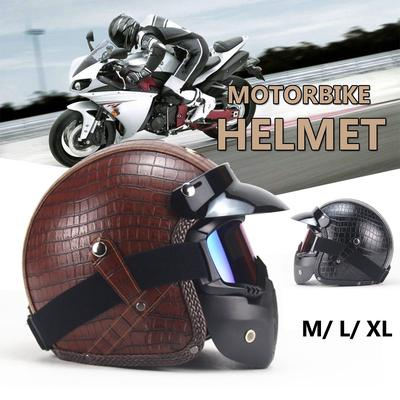with_helmet: (28, 138, 291, 373), (291, 198, 390, 285), (106, 13, 139, 50)
